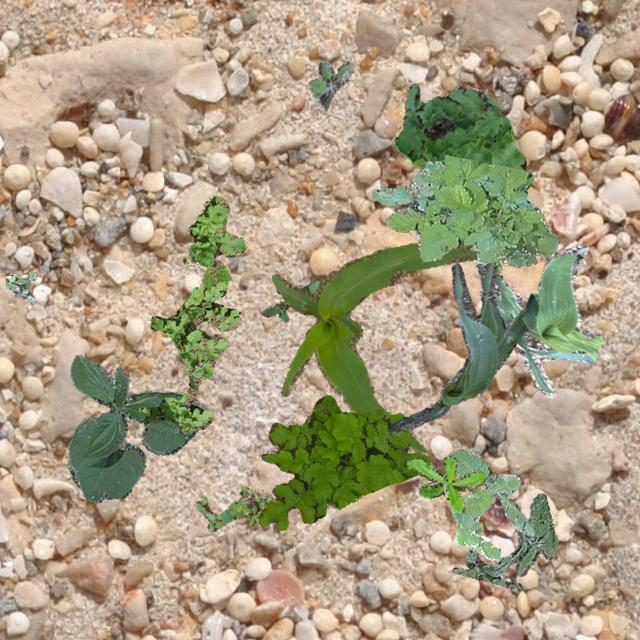crop: (270, 242, 476, 452), (387, 260, 538, 432), (66, 354, 206, 502), (476, 244, 602, 396)
weed: (138, 195, 245, 432), (258, 394, 430, 530), (372, 154, 556, 272), (394, 82, 524, 170), (450, 492, 558, 588), (448, 448, 534, 560), (406, 454, 484, 512), (194, 484, 272, 530), (262, 278, 318, 320), (308, 59, 352, 110), (3, 270, 36, 300), (524, 252, 536, 266)
